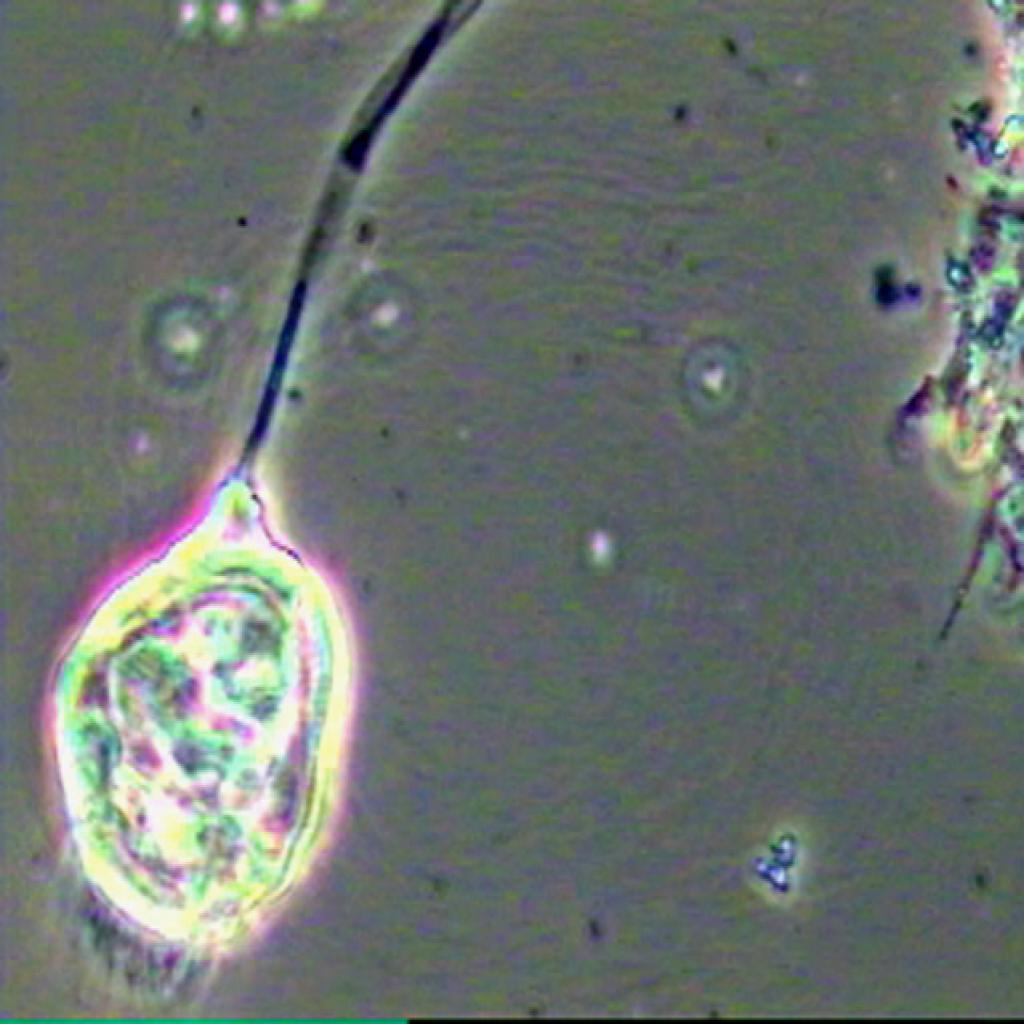Vorticella: (17, 142, 432, 980), (444, 95, 458, 144)
